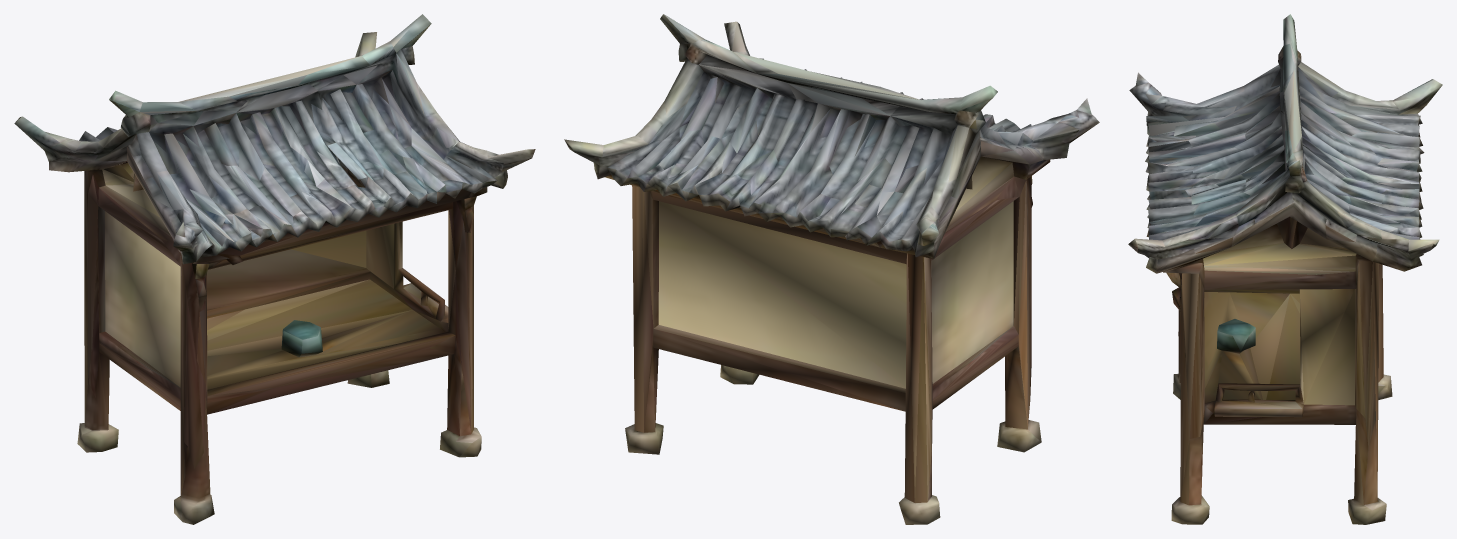
Rendered from roadside_shrine.glb.
The picture shows the model from 3 angles, left to right: view 1: azimuth 30°, elevation 25°; view 2: azimuth 150°, elevation 25°; view 3: azimuth 270°, elevation 25°; orthographic projection. The views are drawn at different scales.
Visible parts, largest first — view 1: Roadside mountain-spirit shrine from Studio; view 2: Roadside mountain-spirit shrine from Studio; view 3: Roadside mountain-spirit shrine from Studio.
Boxes of the visible parts, x1,y1,x2,y2 form: Roadside mountain-spirit shrine from Studio: (14,14,535,524); Roadside mountain-spirit shrine from Studio: (564,14,1099,524); Roadside mountain-spirit shrine from Studio: (1128,14,1442,524).
Bounding box in the file's own units: 3.22 × 3.31 × 2.56.
1 material, 1 textured.
